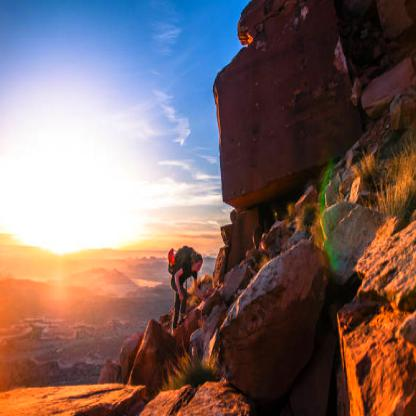Sedimentary_Sandstone: (211, 5, 343, 209), (209, 242, 335, 400), (337, 277, 415, 415), (358, 202, 415, 311), (1, 373, 147, 415), (136, 374, 252, 415)
